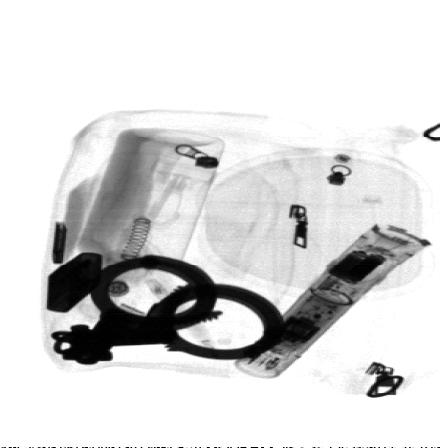Baton: (234, 226, 432, 379)
HandCuffs: (46, 253, 292, 367)
Lighter: (45, 250, 101, 313)
